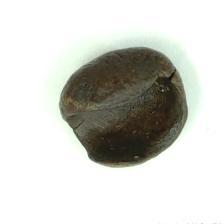NG: (60, 73, 182, 160)
